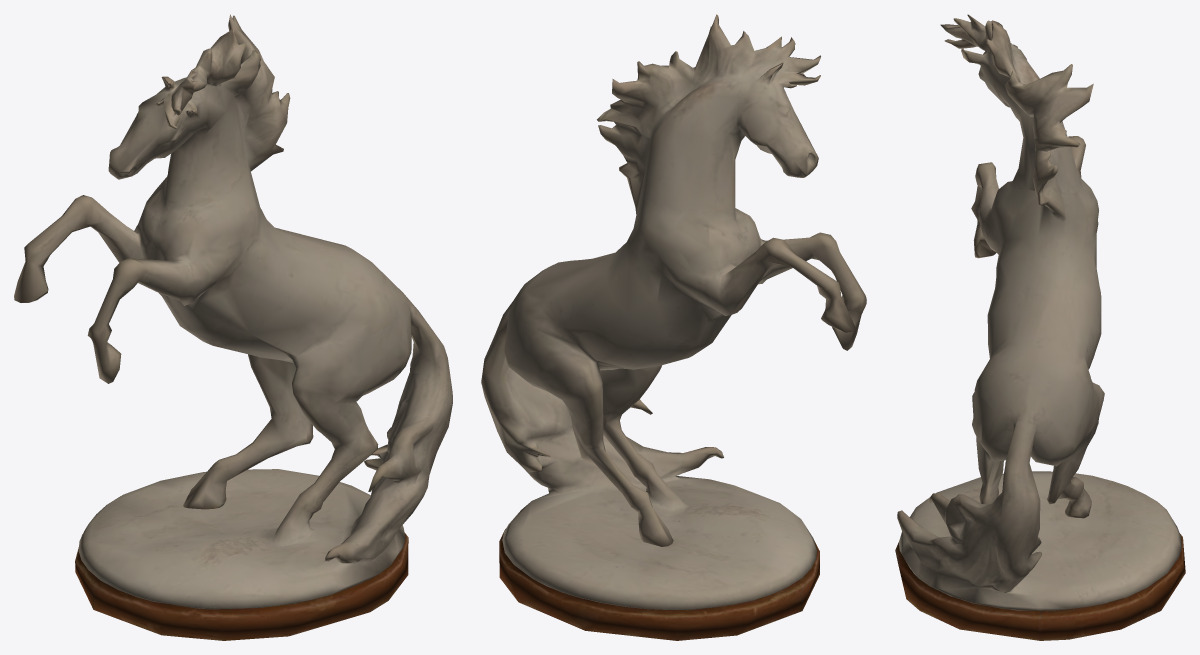
File: scene-statue.glb
3 views of the same model, side by side, from view 1: azimuth 30°, elevation 25°; view 2: azimuth 150°, elevation 25°; view 3: azimuth 270°, elevation 25° (orthographic). The views are drawn at different scales.
Parts seen in each view (by area): view 1: horse_statue_01; view 2: horse_statue_01; view 3: horse_statue_01.
Part boxes in pixels (x1,y1,x2,y2): horse_statue_01: (14,14,452,640); horse_statue_01: (481,14,866,640); horse_statue_01: (895,14,1185,640).
Bounding box in the file's own units: 0.1635 × 0.22 × 0.1078.
1 material, 1 textured.
